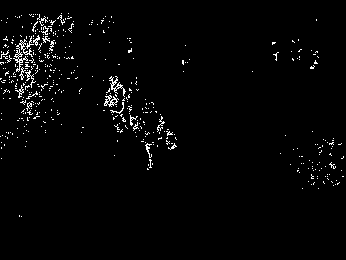person: (139, 95, 176, 172), (104, 76, 126, 134), (126, 79, 142, 135)
